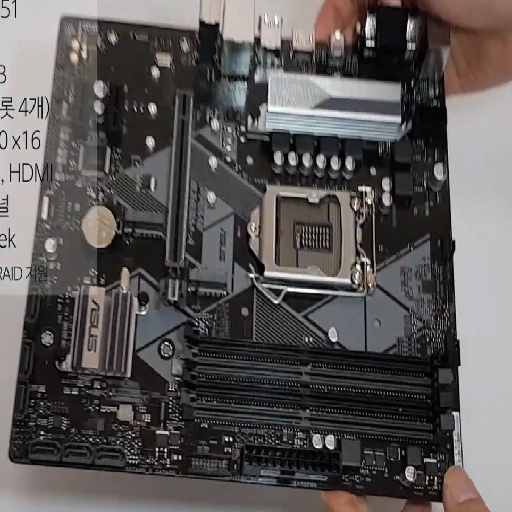CPU: (246, 187, 374, 294)
GPU: (161, 88, 196, 302)
MOTHERBOARD: (6, 14, 462, 501)
RAM: (178, 326, 455, 447)
SSD: (188, 267, 231, 296), (123, 209, 165, 238)
